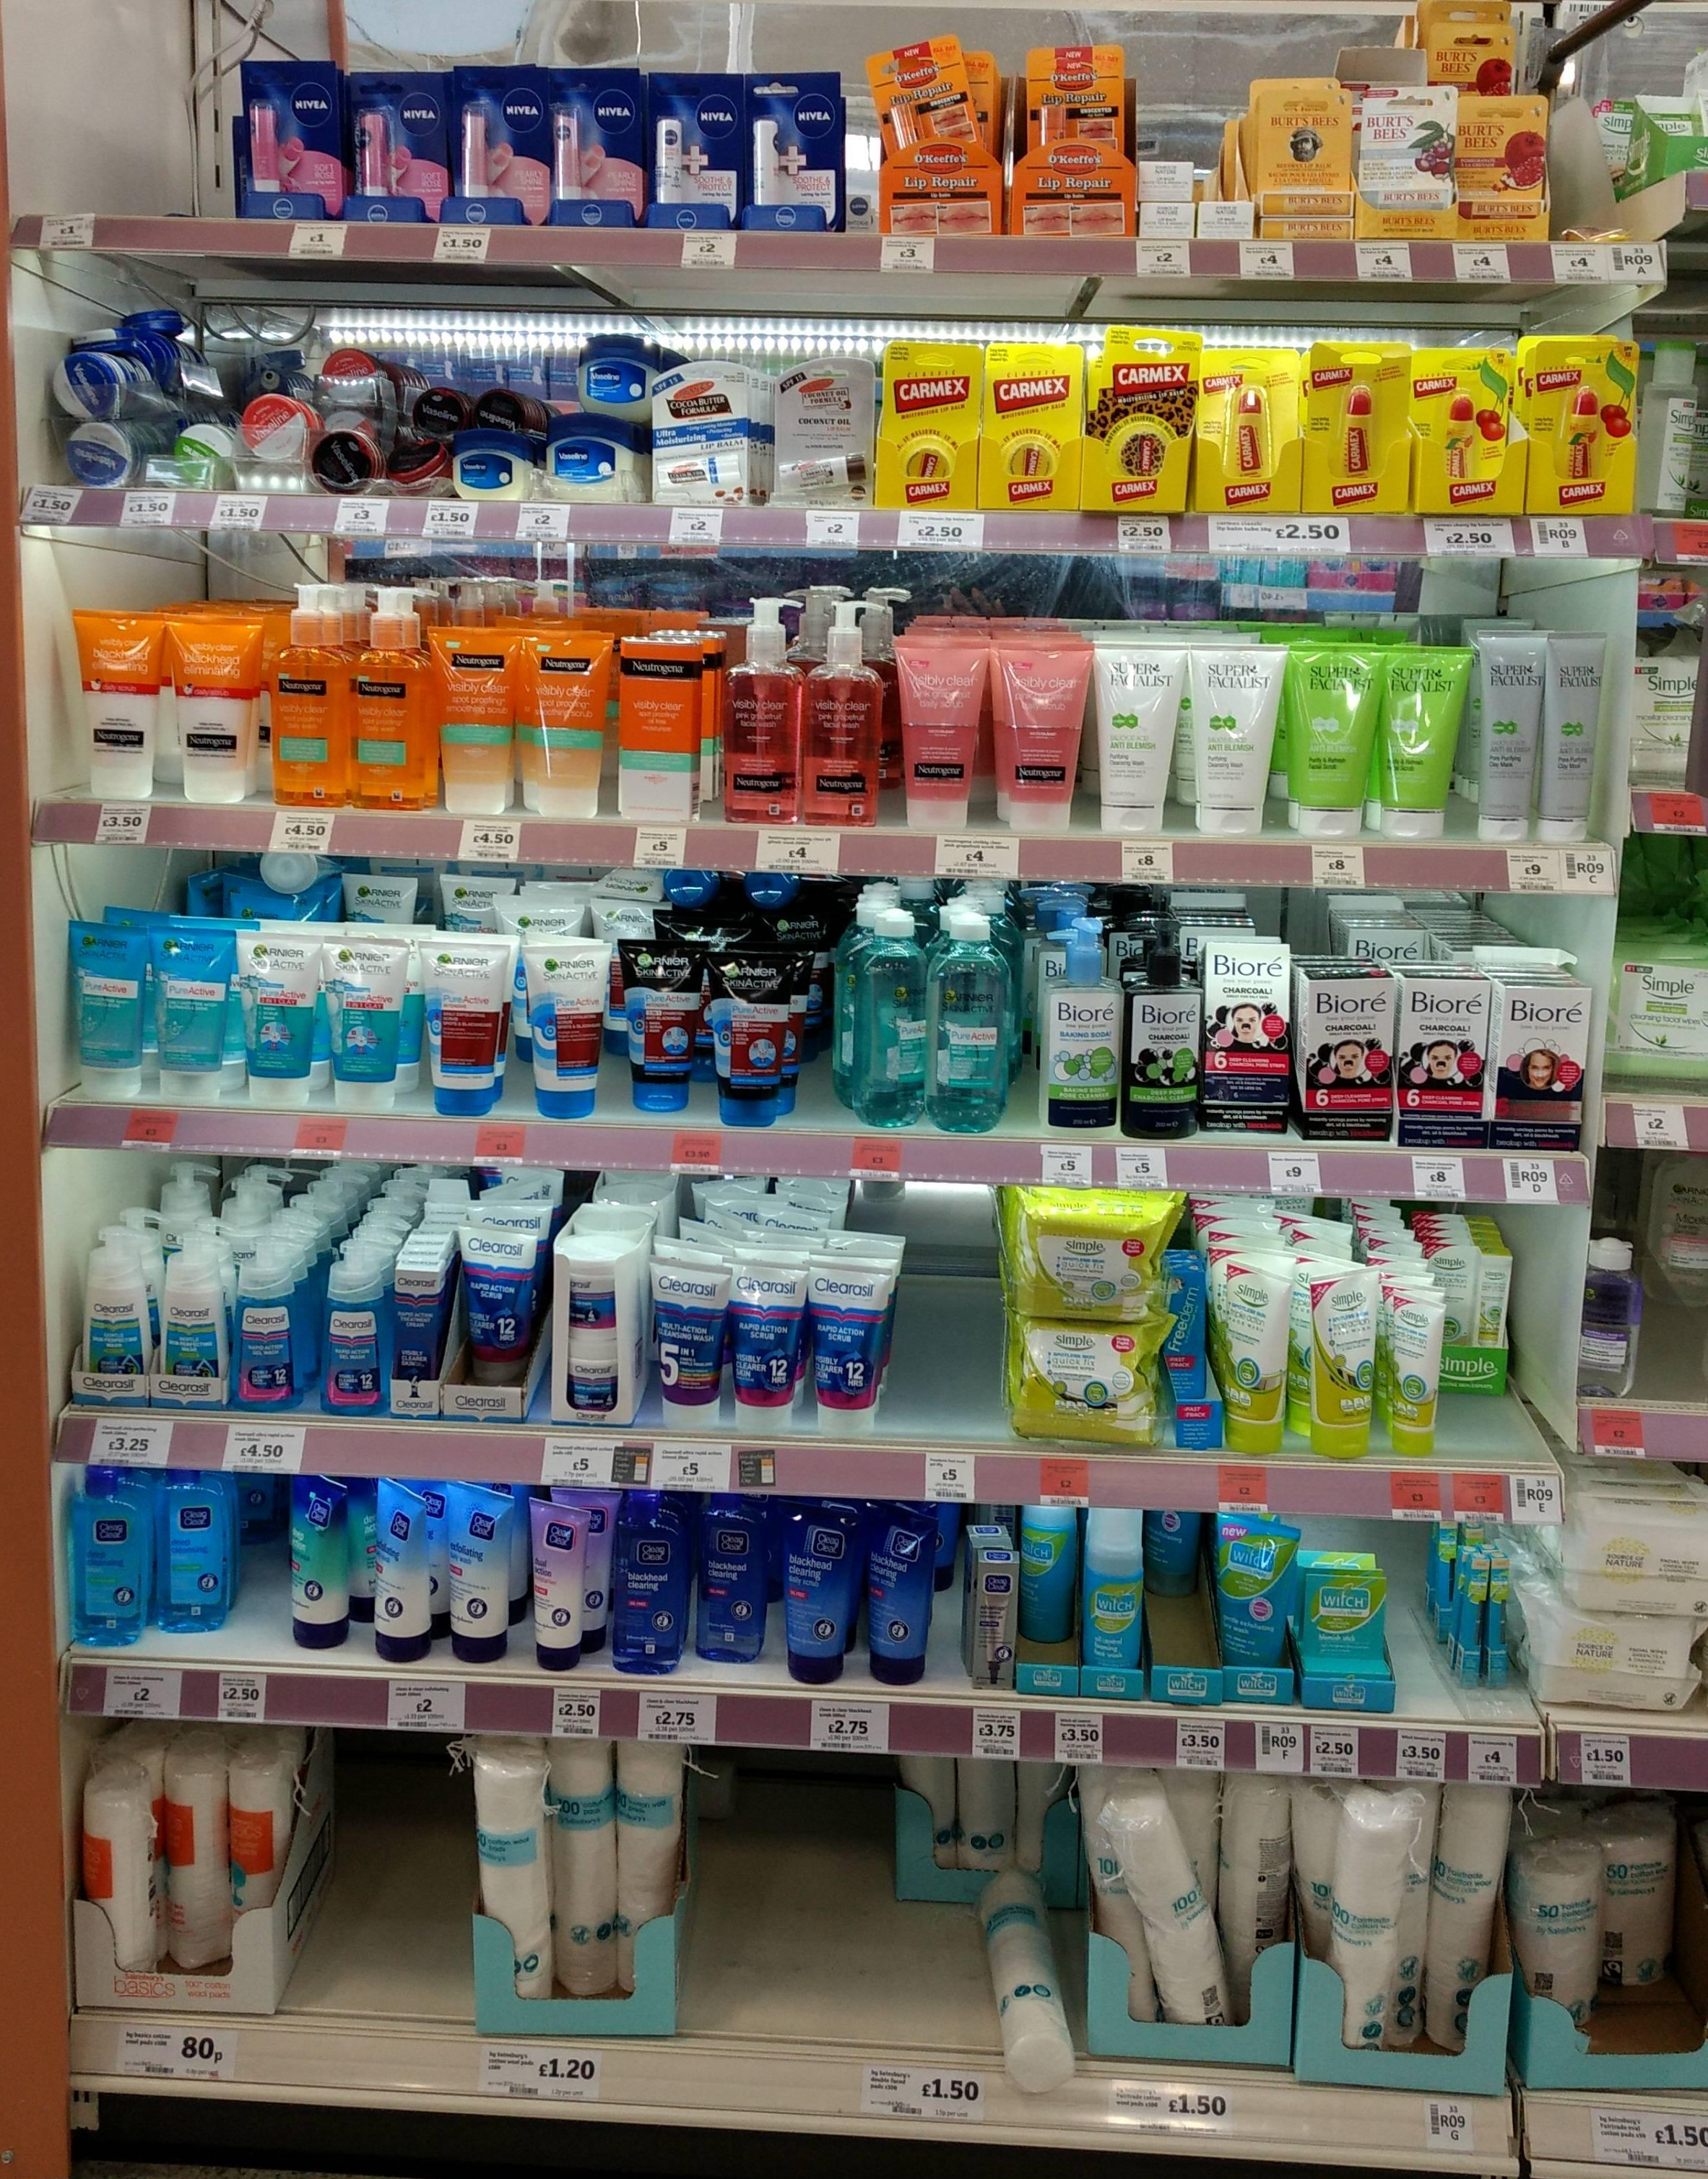empty: (723, 1758, 872, 2013), (339, 1749, 456, 1995), (923, 1208, 990, 1429)
misalignment: (962, 1871, 1080, 2106)
